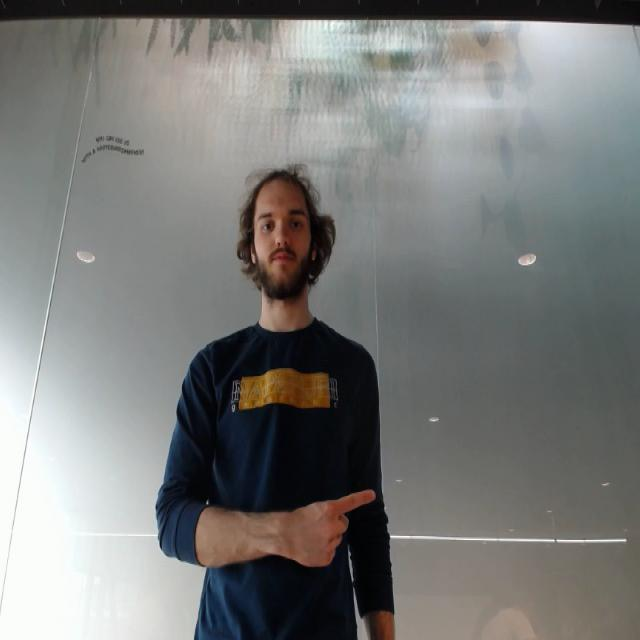right: (294, 482, 380, 572)
